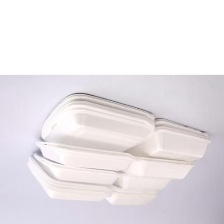foam_box: (37, 88, 214, 164), (23, 138, 196, 212)
